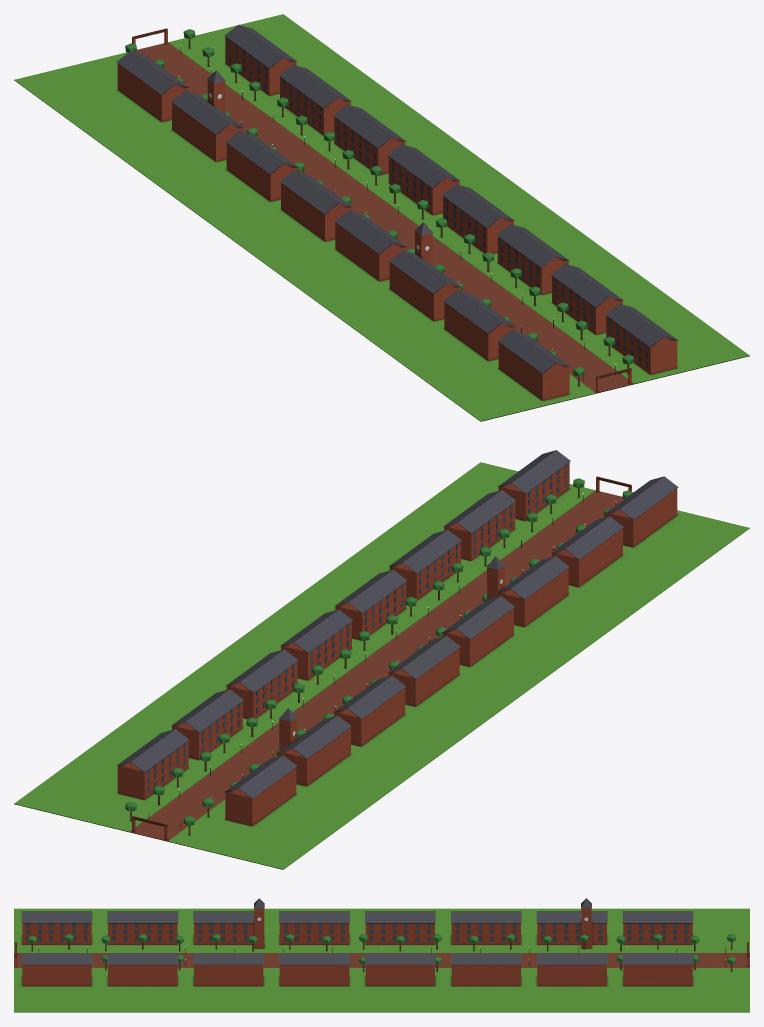
Rendered from patio_brown.glb.
3 views of the same model, one above another, from view 1: azimuth 30°, elevation 25°; view 2: azimuth 150°, elevation 25°; view 3: azimuth 270°, elevation 25° (orthographic). The views are drawn at different scales.
Visible parts, largest first — view 1: patio_brown; view 2: patio_brown; view 3: patio_brown.
Part boxes in pixels (<box>): patio_brown: <box>14,14,749,421</box>; patio_brown: <box>14,450,749,869</box>; patio_brown: <box>14,898,749,1012</box>.
Size of the model in its own units: 120 by 26.21 by 360.
Materials: 1 (1 with a texture image).
